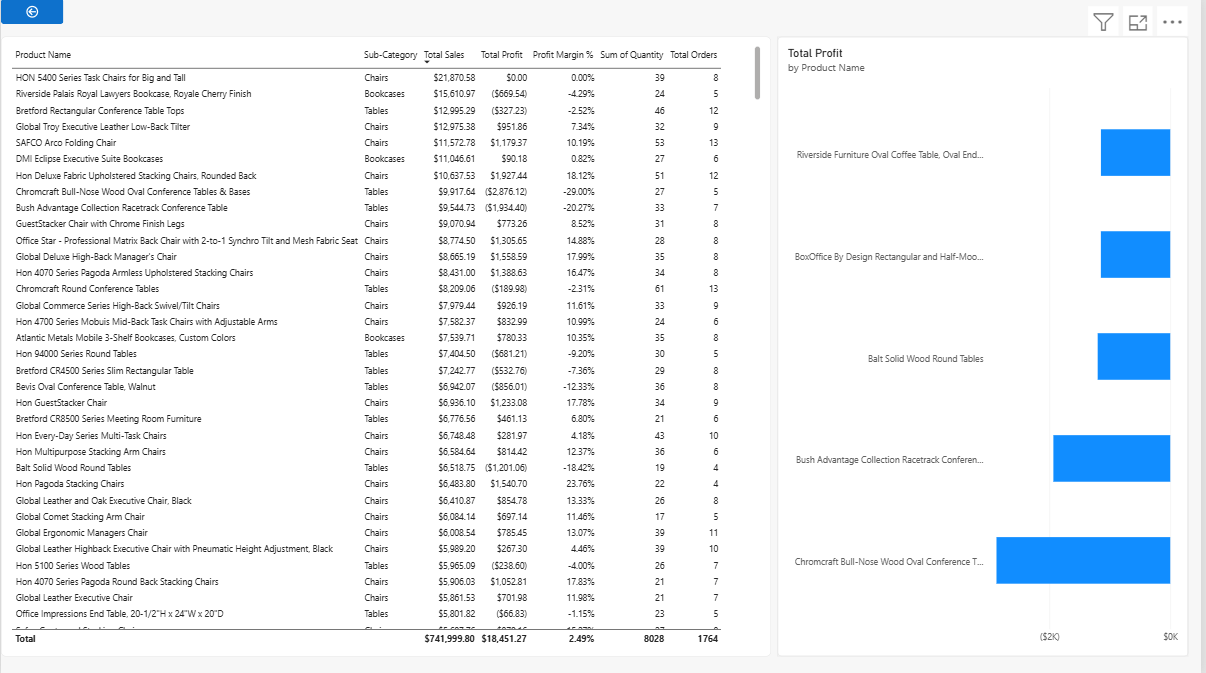

The dashboard page shown, as its layout file describes it:
{"tool":"powerbi","page":{"name":"Product Deep Dive","canvas":[1920,1080],"ordinal":1},"visuals":[{"type":"actionButton","box":[0,0,100,40],"z":0},{"type":"tableEx","fields":{"Values":["Orders.Product Name","Orders.Sub-Category","_Measures.Total Sales","_Measures.Total Profit","_Measures.Profit Margin %","Sum(Orders.Quantity)","_Measures.Total Orders"]},"box":[0,60,1232,992],"z":1000},{"type":"clusteredBarChart","fields":{"Category":["Orders.Product Name"],"Y":["_Measures.Total Profit"]},"box":[1242,60,658,992],"z":1001}]}

Visuals, with their boxes on the page's 1920x1080 design canvas (x1, y1, x2, y2). These are canvas units, not pixel positions in the 1206x673 screenshot, which may show the page scaled, cropped or inside an application window:
actionButton: 0:0:100:40
tableEx - Orders.Product Name x Orders.Sub-Category: 0:60:1232:1052
clusteredBarChart - Orders.Product Name x _Measures.Total Profit: 1242:60:1900:1052
